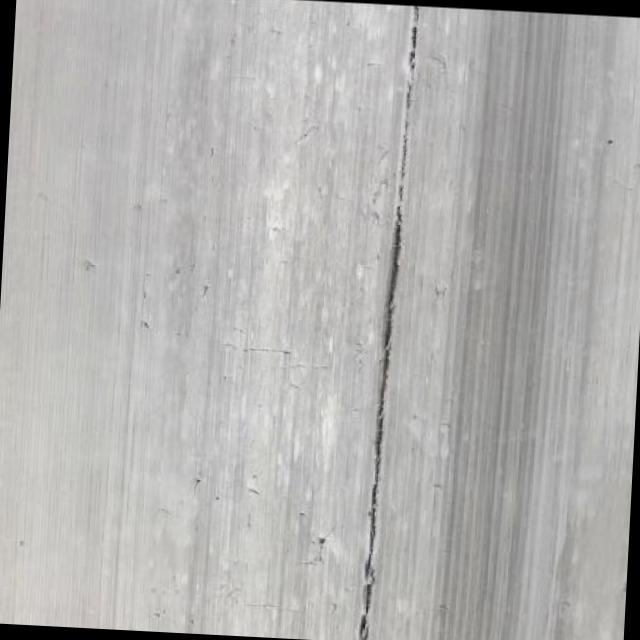Tear: (350, 0, 426, 640)
